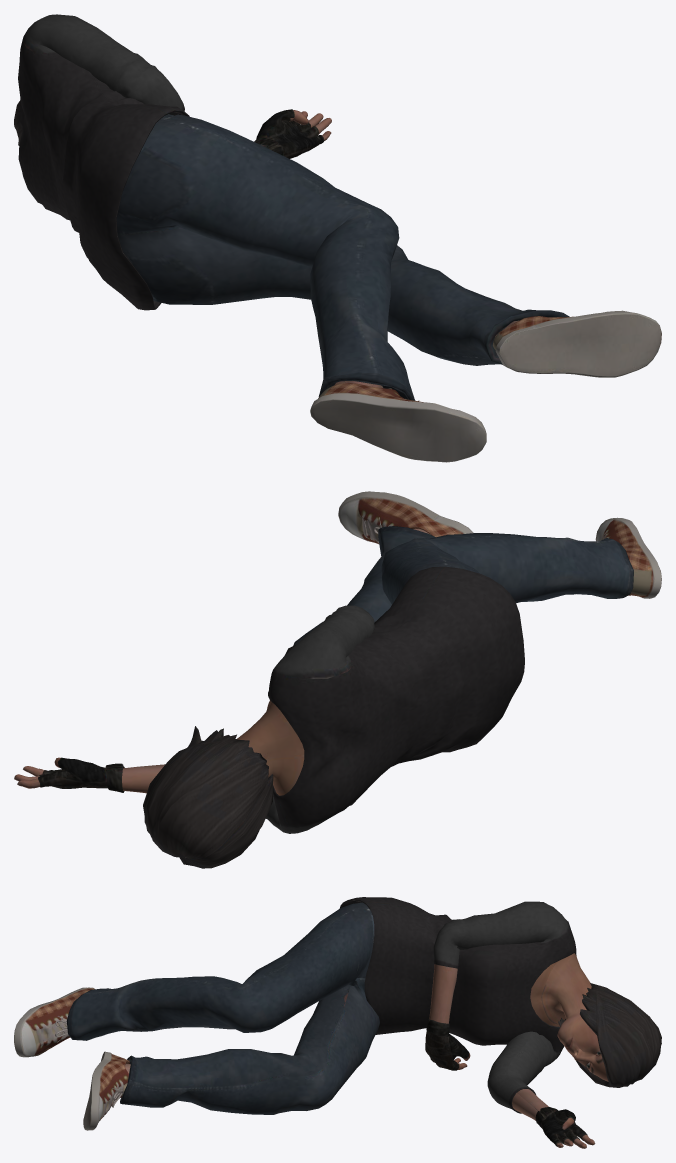
The model's file is woman_deadbody.fbx.
3 views of the same model, one above another, from view 1: azimuth 30°, elevation 25°; view 2: azimuth 150°, elevation 25°; view 3: azimuth 270°, elevation 25° (orthographic). The views are drawn at different scales.
Parts seen in each view (by area): view 1: Woman_body; view 2: Woman_body; view 3: Woman_body.
Boxes of the visible parts, x1,y1,x2,y2 form: Woman_body: (14,14,661,462); Woman_body: (14,491,661,868); Woman_body: (14,897,661,1148).
Bounding box in the file's own units: 80.3 × 44.35 × 165.
Materials: 1 (1 with a texture image).
